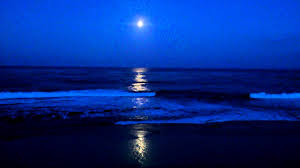moon: (133, 18, 145, 30)
